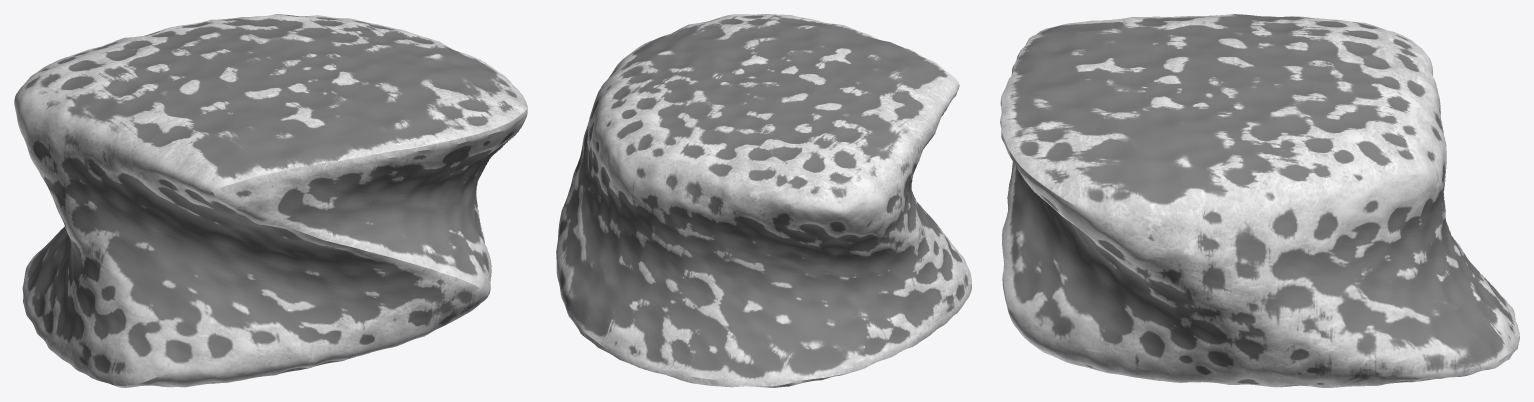
The model's file is Cliff 4.fbx.
3 views of the same model, side by side, from view 1: azimuth 30°, elevation 25°; view 2: azimuth 150°, elevation 25°; view 3: azimuth 270°, elevation 25° (orthographic). The views are drawn at different scales.
Visible parts, largest first — view 1: rock.010; view 2: rock.010; view 3: rock.010.
Part boxes in pixels (x1,y1,x2,y2): rock.010: (14,14,527,387); rock.010: (556,14,971,387); rock.010: (1000,14,1519,387).
Size of the model in its own units: 975 by 572 by 1003.
